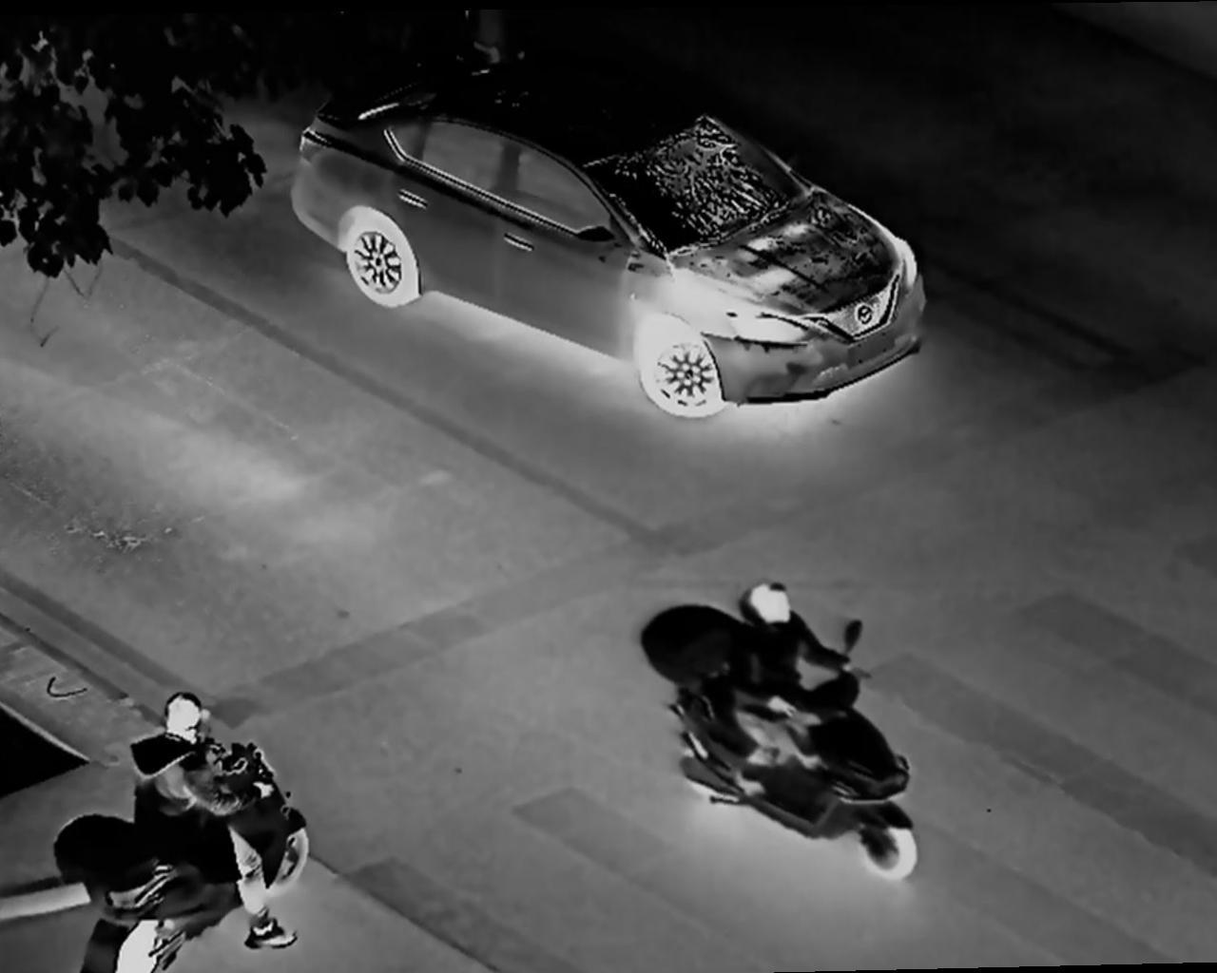person: (127, 684, 312, 955), (724, 581, 845, 830)
